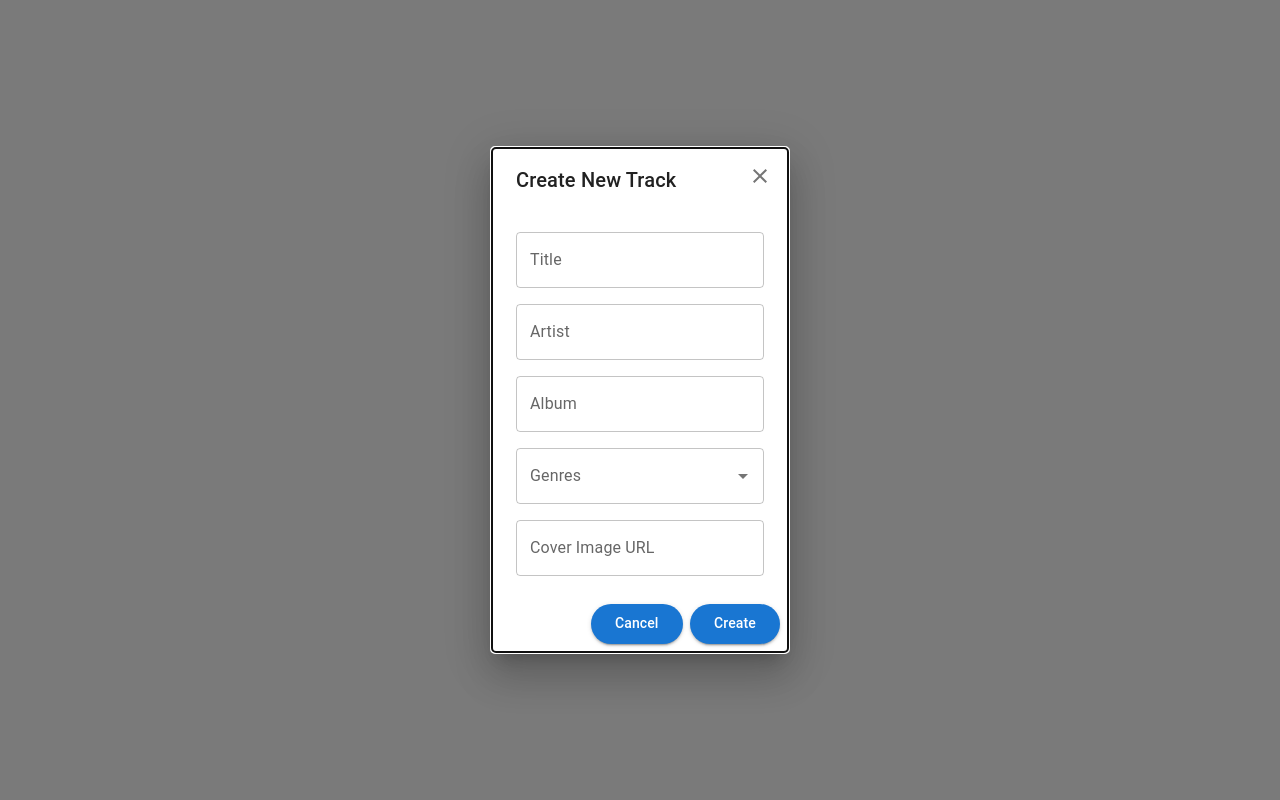
it: should handle form validation errors
Click the button with test id "submit-button". click: {"x": 735, "y": 624}
box: [690,604,780,644]
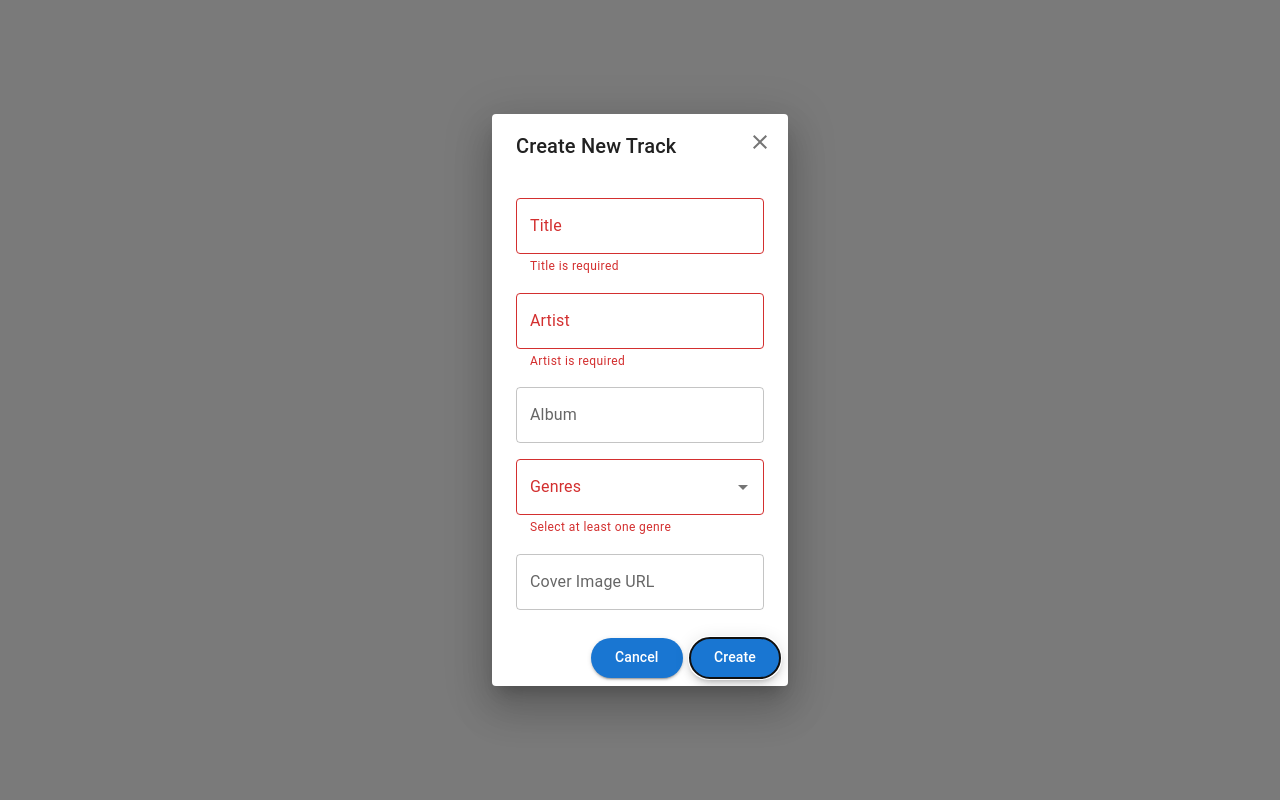
Check: the text "Title is required" is shown, box [530,259,619,273]
Check: the text "Artist is required" is shown, box [530,354,625,368]
Check: the text "Select at least one genre" is shown, box [530,520,671,534]
